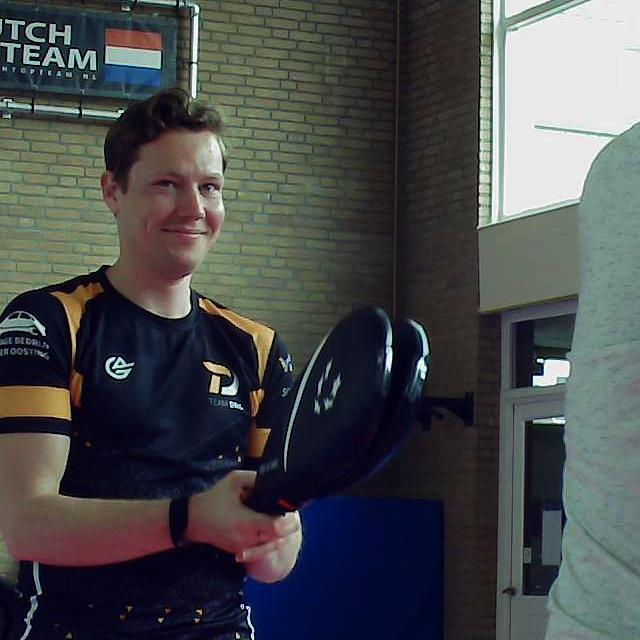paddle: (250, 308, 436, 514)
